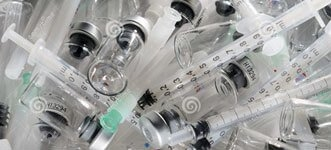glass: (135, 54, 259, 148), (85, 10, 156, 100)
plastic: (137, 1, 326, 104), (1, 25, 151, 136), (163, 77, 331, 146)
